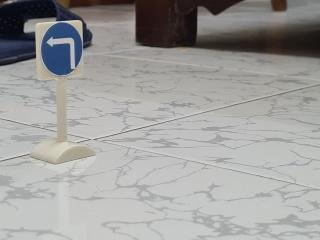left: (36, 21, 86, 78)
